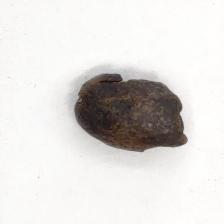NG: (75, 73, 188, 152)
